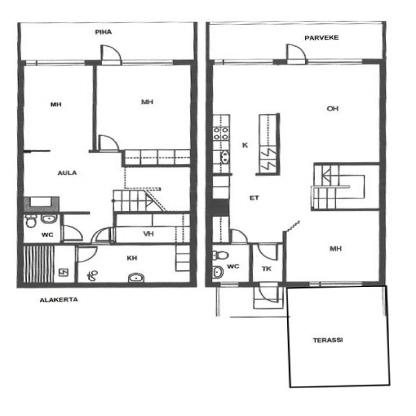door: (256, 280, 279, 302), (100, 43, 121, 63), (286, 44, 307, 64), (75, 245, 97, 263), (60, 226, 84, 242), (91, 229, 118, 243), (257, 244, 279, 260), (99, 136, 120, 151), (230, 228, 247, 244)
window: (25, 60, 83, 66), (308, 58, 360, 64), (121, 58, 172, 64), (309, 280, 360, 286), (215, 60, 272, 65), (221, 282, 236, 287)
zone: (212, 64, 378, 282), (23, 66, 189, 241), (287, 288, 389, 387), (97, 64, 189, 149), (20, 22, 191, 60), (209, 25, 385, 58), (77, 244, 188, 282), (116, 214, 188, 243), (23, 245, 73, 284), (218, 288, 285, 316), (212, 246, 248, 281), (253, 244, 281, 281), (23, 214, 59, 241)
